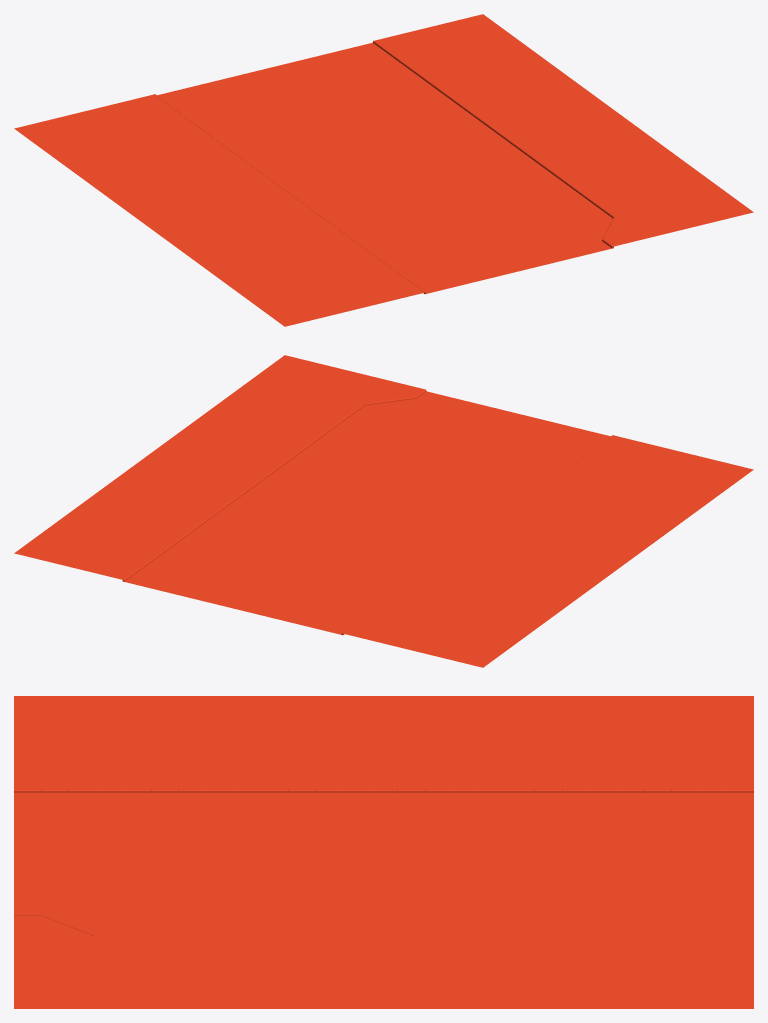
The model's file is SM_Mainroad_Stop_Start_R_30x30_City.fbx.
3 views of the same model, one above another, from view 1: azimuth 30°, elevation 25°; view 2: azimuth 150°, elevation 25°; view 3: azimuth 270°, elevation 25° (orthographic). The views are drawn at different scales.
Visible parts, largest first — view 1: SM_Mainroad_Stop_Start_R_30x30_City; view 2: SM_Mainroad_Stop_Start_R_30x30_City; view 3: SM_Mainroad_Stop_Start_R_30x30_City.
Part boxes in pixels (left/top/right/bottom): SM_Mainroad_Stop_Start_R_30x30_City: left=14, top=14, right=753, bottom=326; SM_Mainroad_Stop_Start_R_30x30_City: left=14, top=355, right=753, bottom=667; SM_Mainroad_Stop_Start_R_30x30_City: left=14, top=696, right=753, bottom=1008.
Size of the model in its own units: 30 by 0.1149 by 30.
